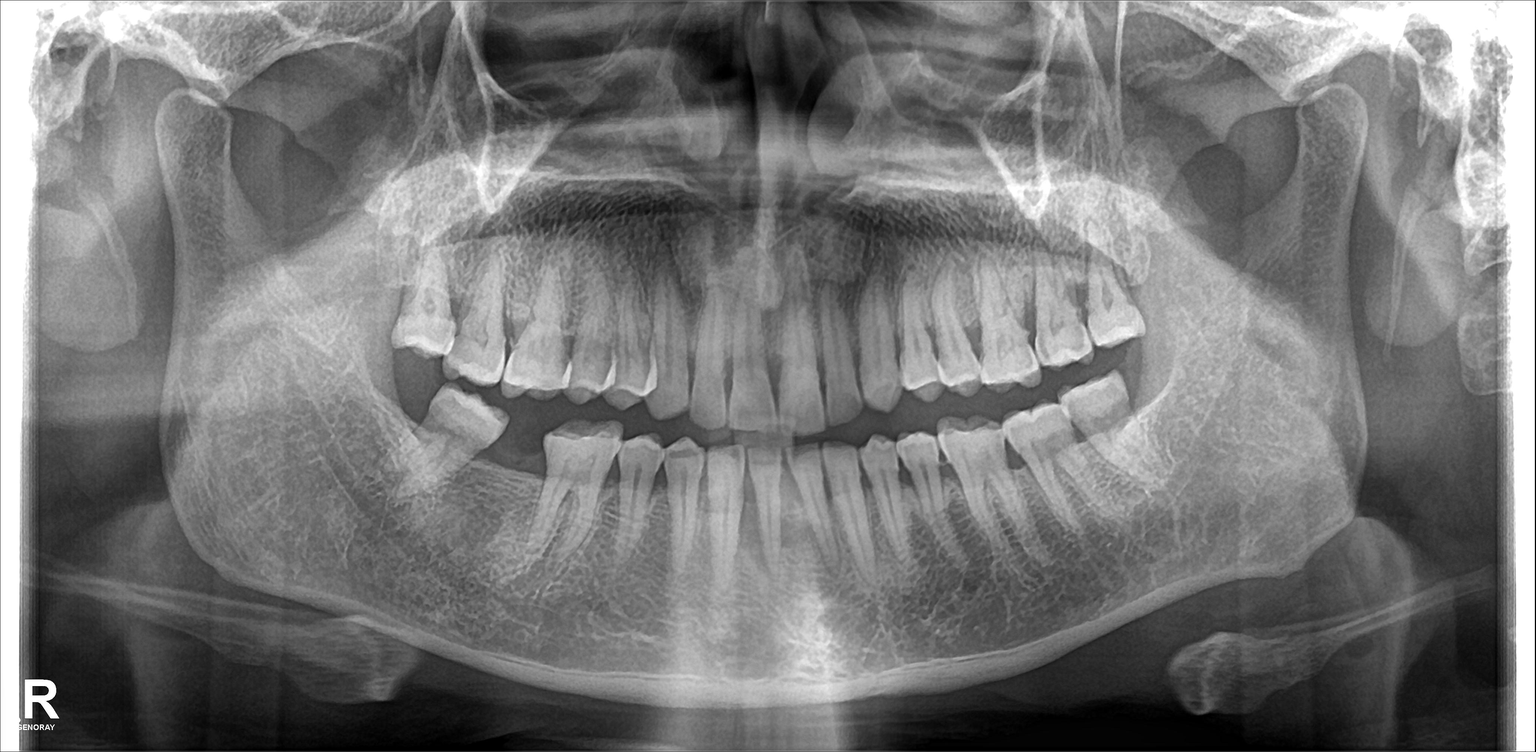Missing Tooth: (371, 365, 438, 453), (507, 423, 548, 538)
